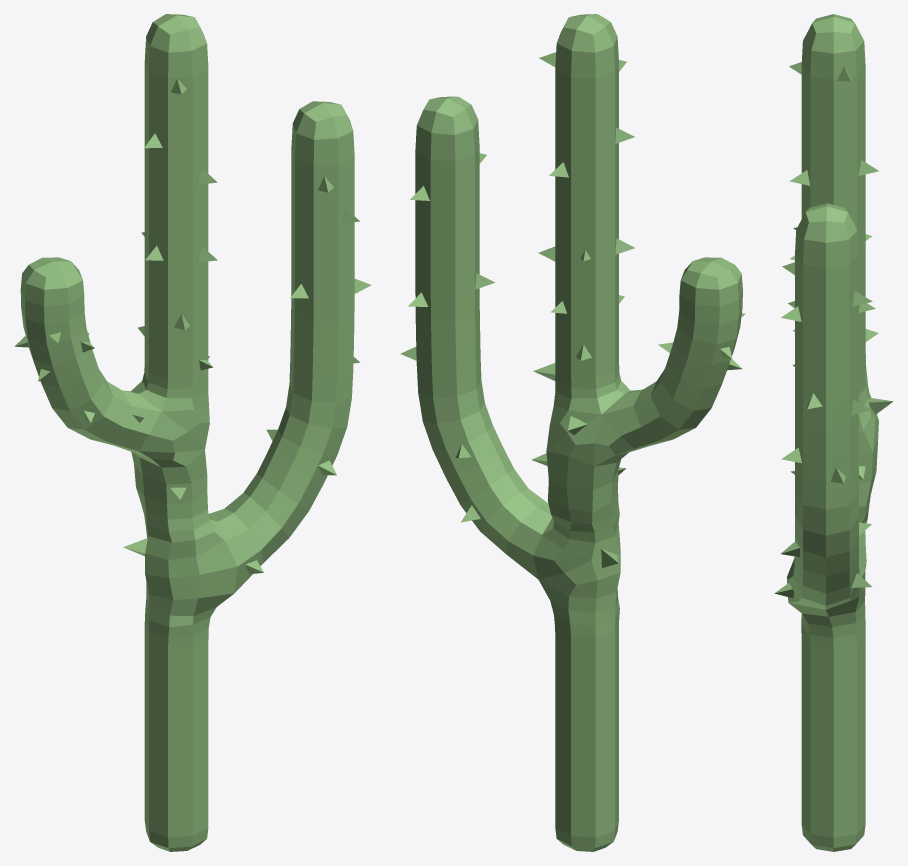
File: cactus_1.fbx
The picture shows the model from 3 angles, left to right: view 1: azimuth 30°, elevation 25°; view 2: azimuth 150°, elevation 25°; view 3: azimuth 270°, elevation 25°; orthographic projection.
Visible parts, largest first — view 1: Cone.040; view 2: Cone.040; view 3: Cone.040.
Boxes of the visible parts, box(x1,y1,x2,y2) form: Cone.040: box(14, 14, 371, 851); Cone.040: box(400, 14, 745, 851); Cone.040: box(774, 14, 893, 851).
Size of the model in its own units: 16.39 by 38.69 by 5.06.
